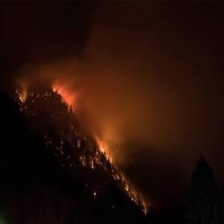fire: (24, 86, 150, 217)
